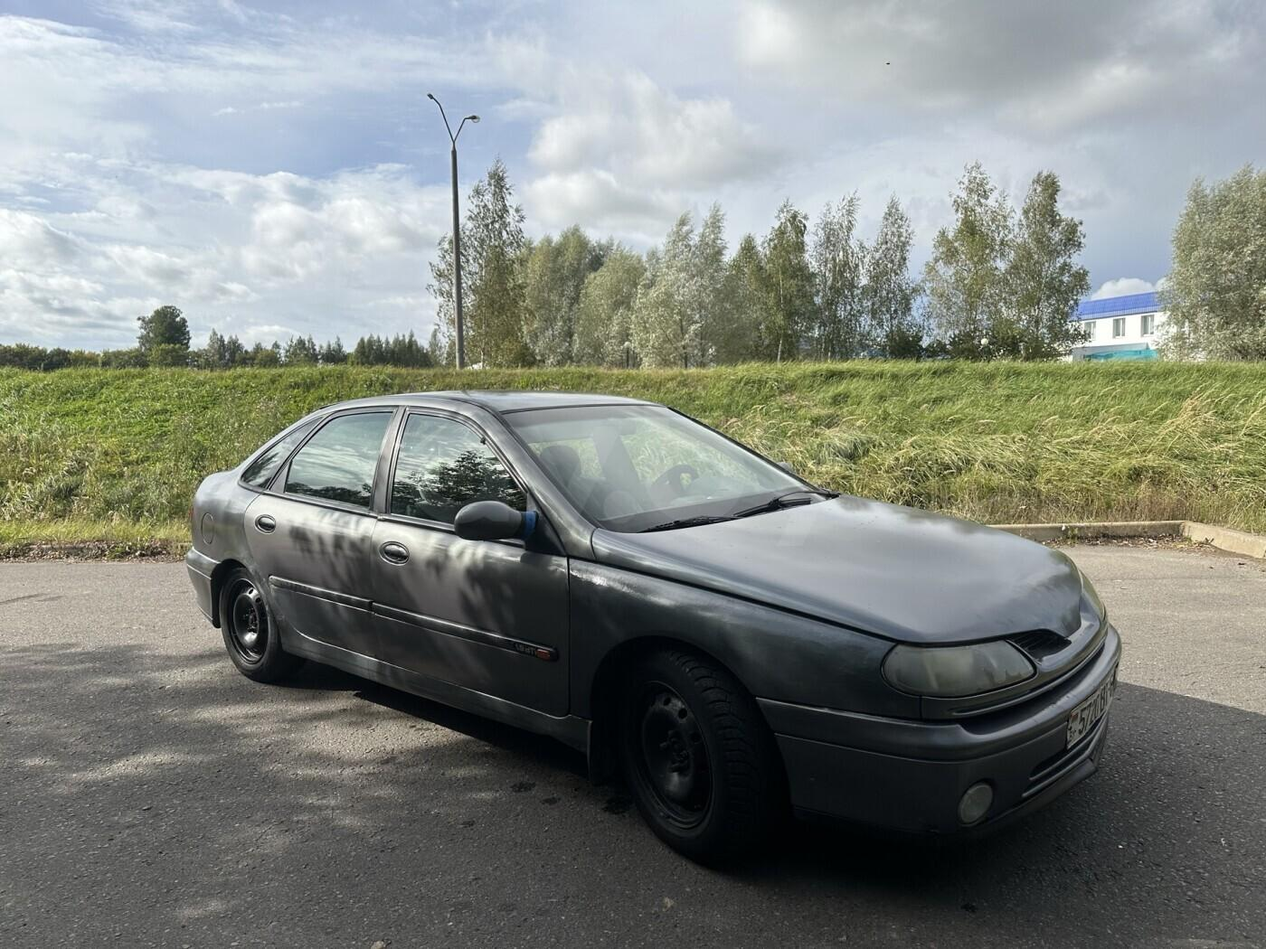Laguna_1998-2001: (185, 377, 1133, 874)
